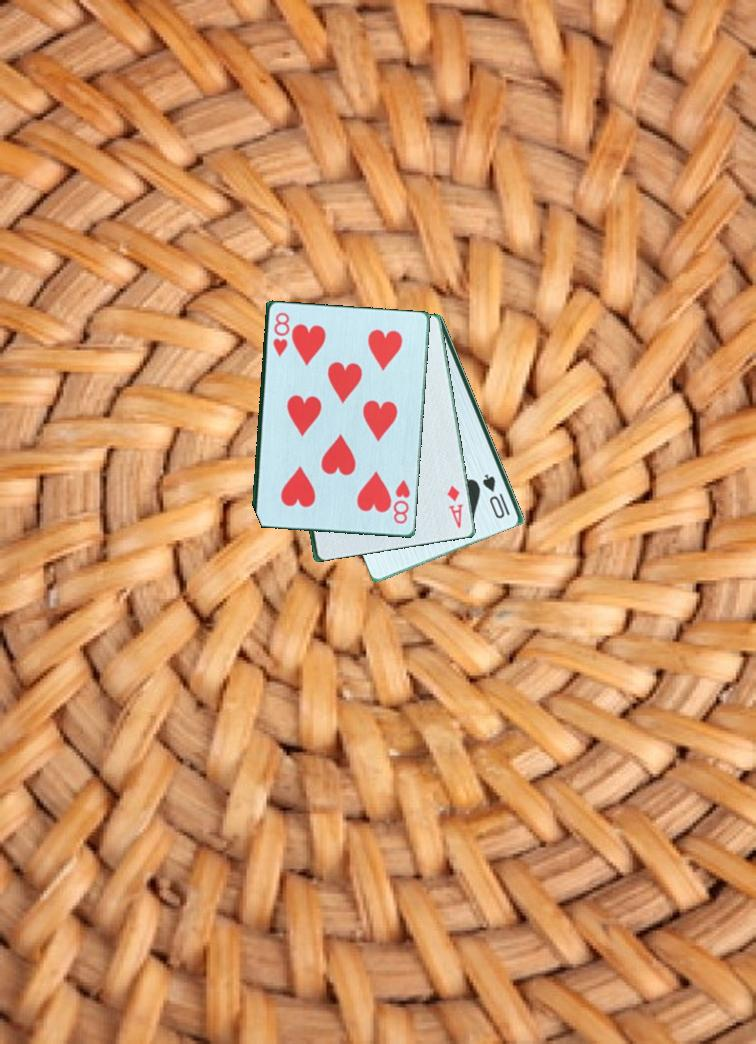8h: (270, 309, 292, 364), (390, 476, 413, 527)
ad: (444, 482, 467, 531)
ts: (480, 470, 513, 522)
